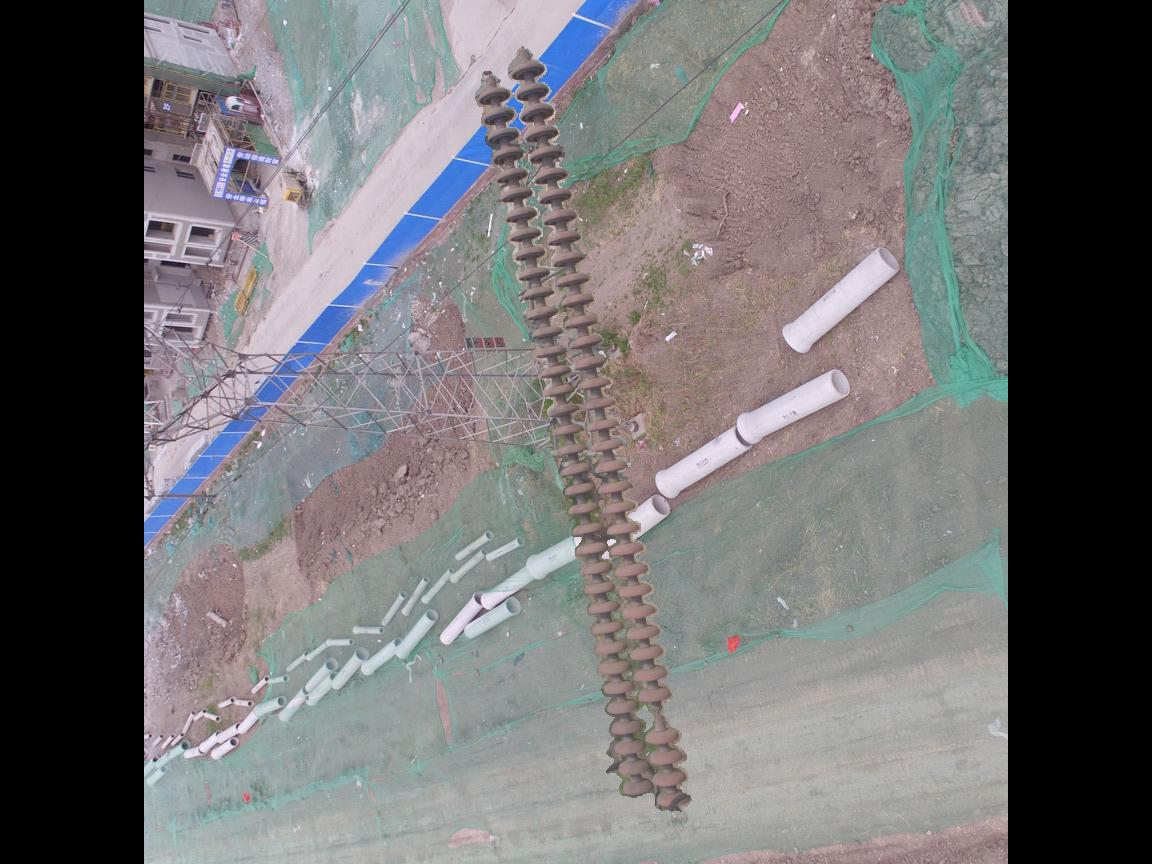insulator: (468, 56, 694, 815)
insulator_stringdrop: (635, 682, 685, 751)
